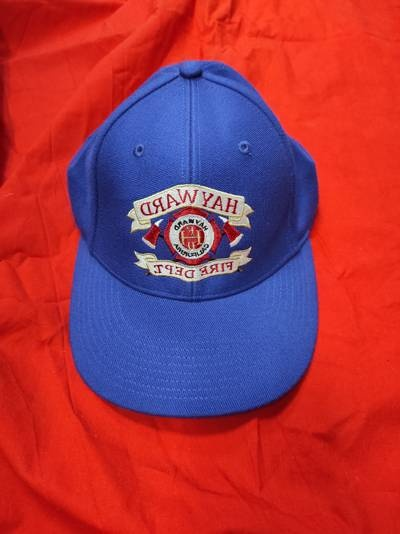Hat: (42, 25, 339, 425)
